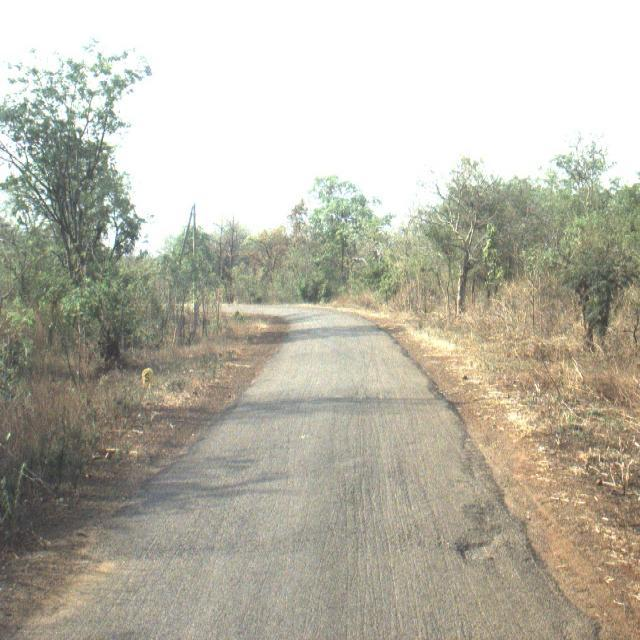pothole: (420, 523, 526, 604)
